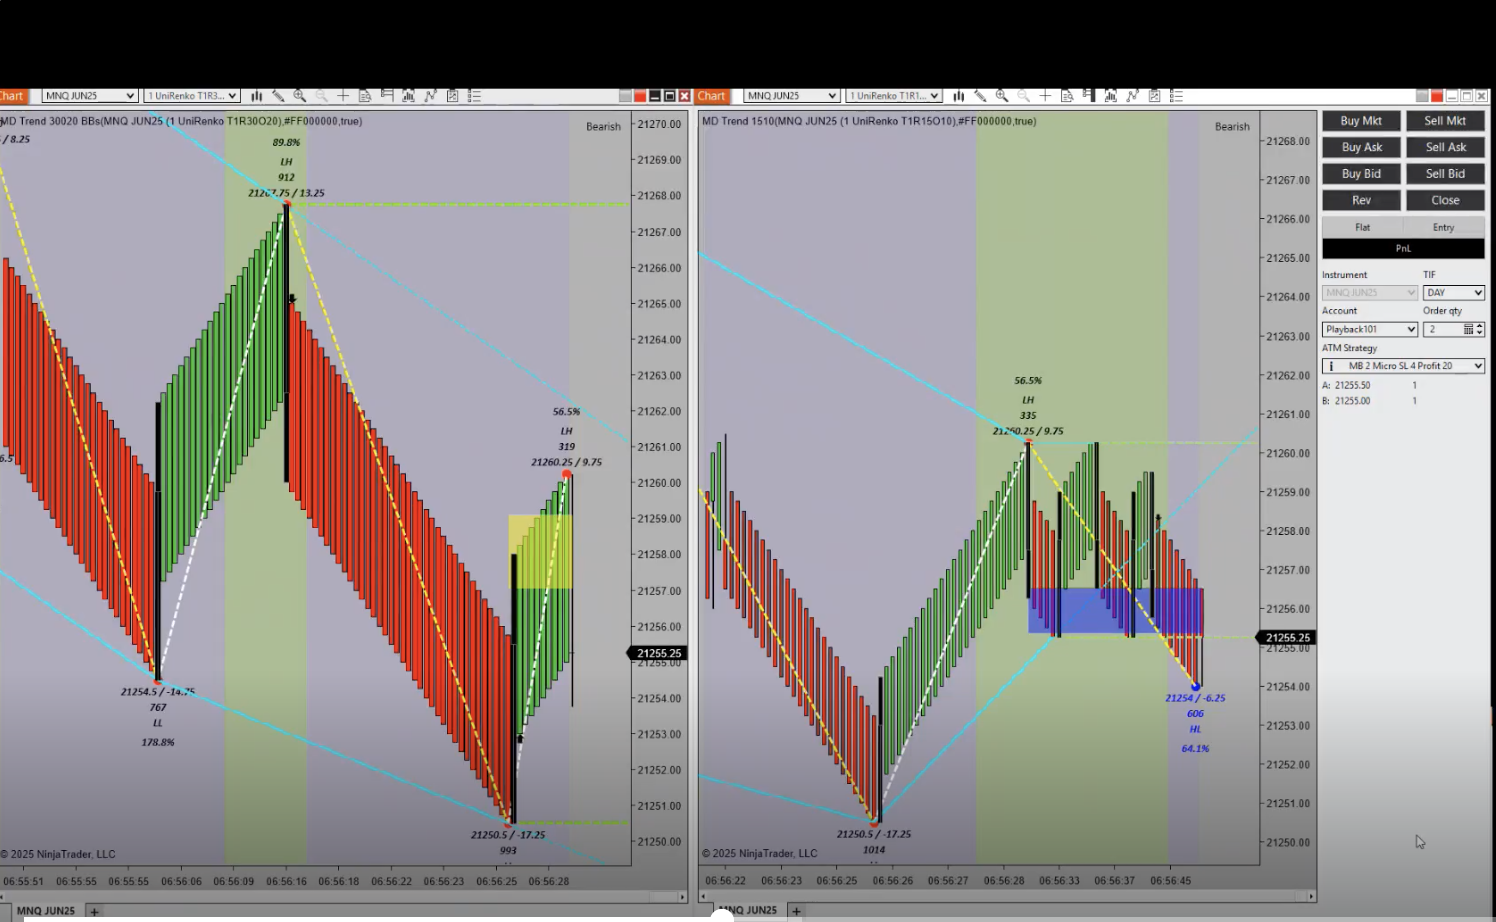candle: (156, 403, 166, 688), (1024, 441, 1037, 605), (511, 554, 518, 830), (1055, 493, 1068, 648), (877, 678, 887, 822), (1129, 493, 1138, 640), (285, 205, 290, 493), (1149, 473, 1156, 625), (1093, 443, 1098, 594)
